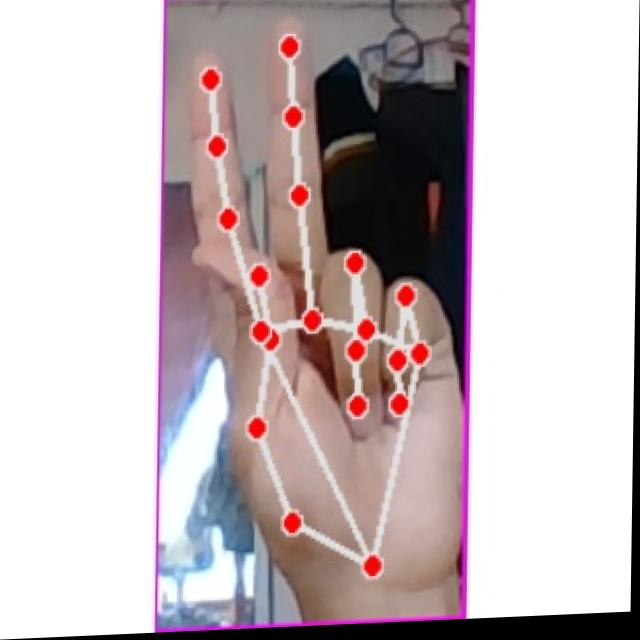K: (180, 3, 462, 611)
